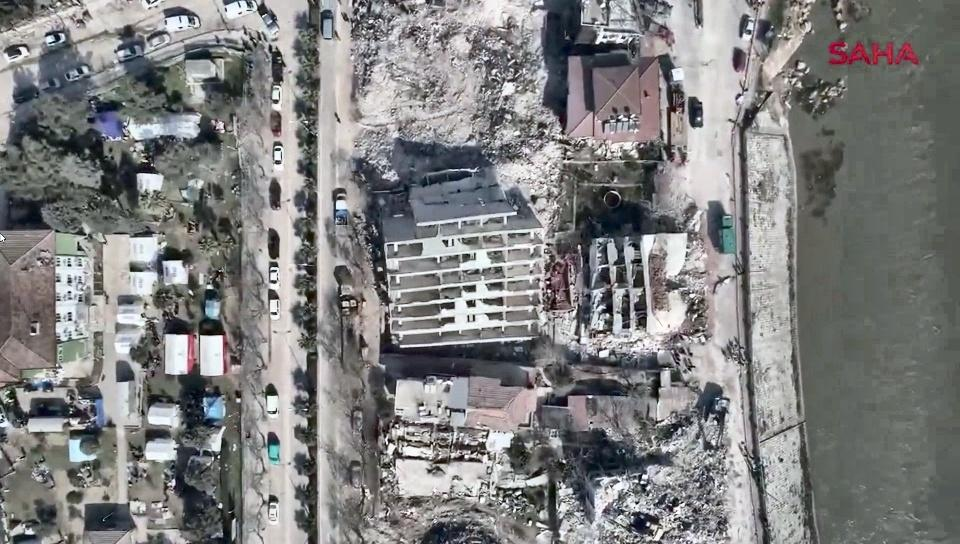kapali: (671, 372, 758, 543)
